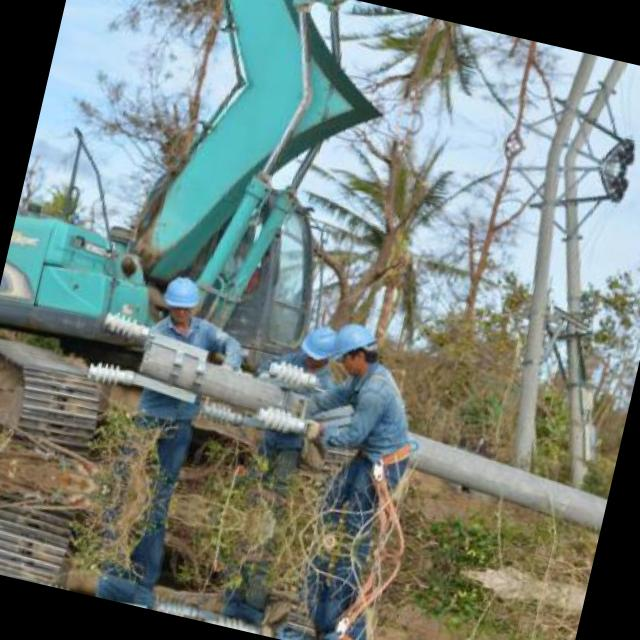helmet: (317, 317, 380, 380), (157, 268, 204, 323), (296, 314, 344, 364)
